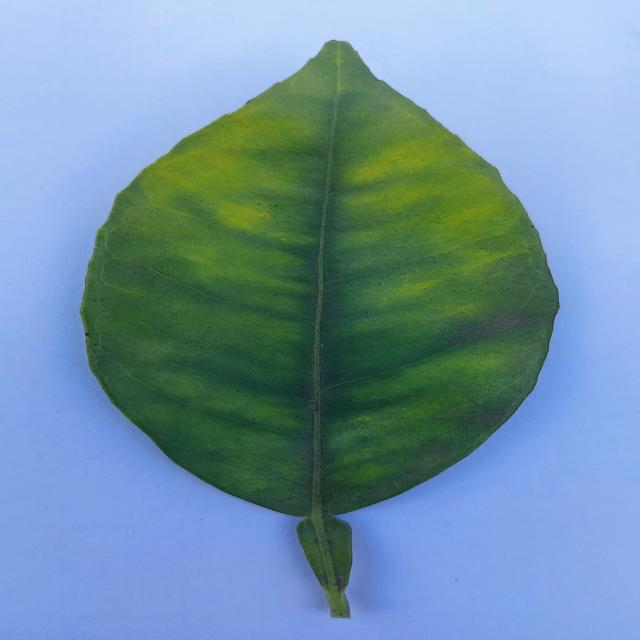greening: (82, 41, 557, 618)
